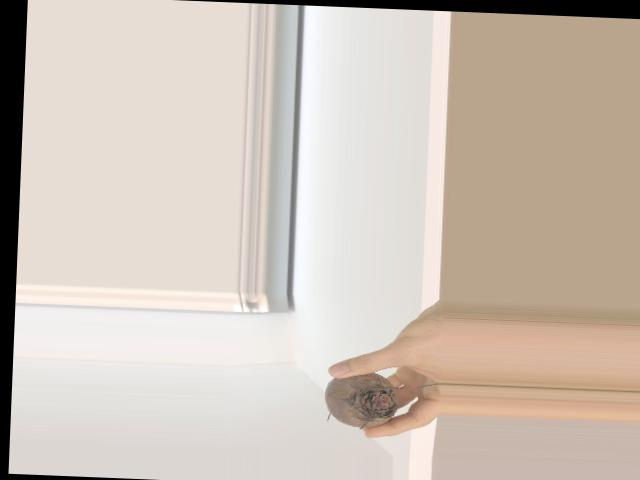beet: (322, 369, 441, 432)
